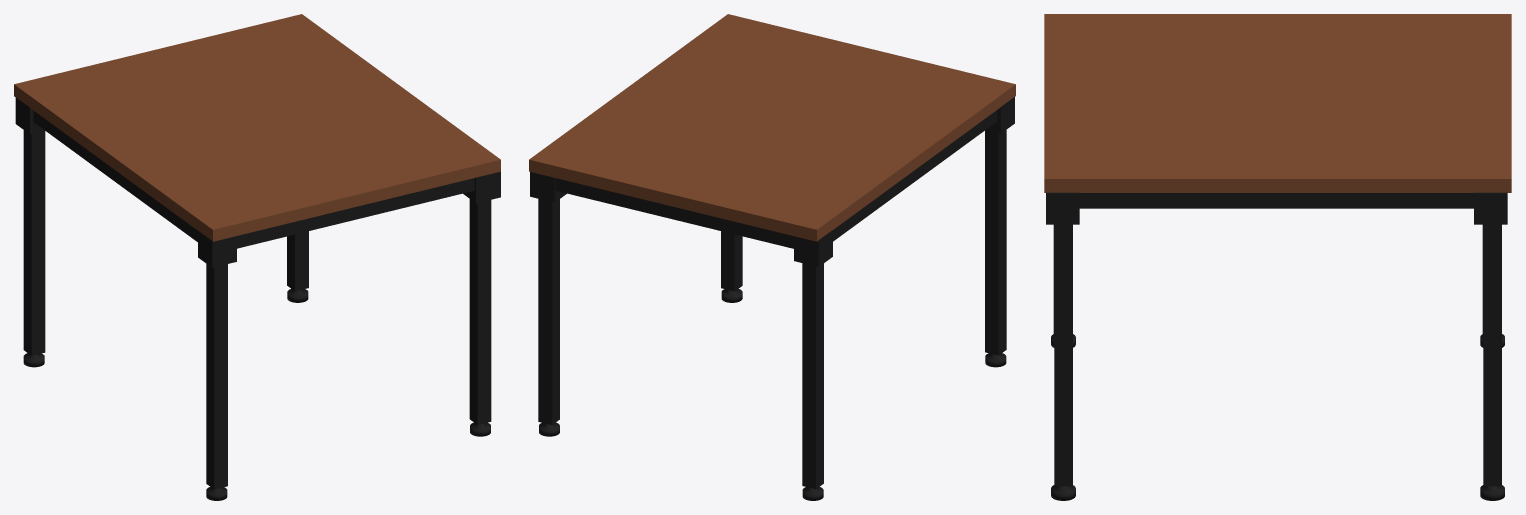
The model's file is new_1mesa.fbx.
The picture shows the model from 3 angles, left to right: view 1: azimuth 30°, elevation 25°; view 2: azimuth 150°, elevation 25°; view 3: azimuth 270°, elevation 25°; orthographic projection. The views are drawn at different scales.
Parts seen in each view (by area): view 1: Cube.234; view 2: Cube.234; view 3: Cube.234.
Boxes of the visible parts, left/top/right/bottom form: Cube.234: left=14, top=14, right=500, bottom=500; Cube.234: left=529, top=14, right=1015, bottom=500; Cube.234: left=1044, top=14, right=1511, bottom=500.
Bounding box in the file's own units: 90.22 × 82.26 × 108.
